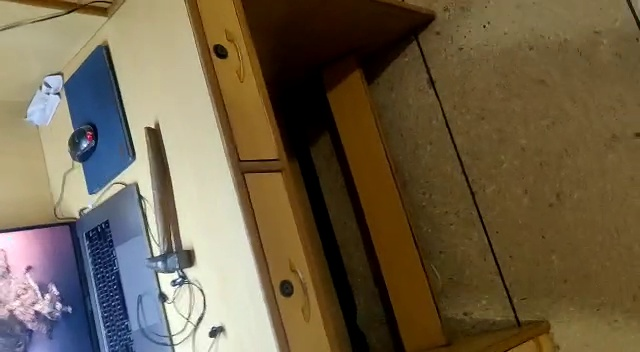hammer: (143, 125, 196, 275)
